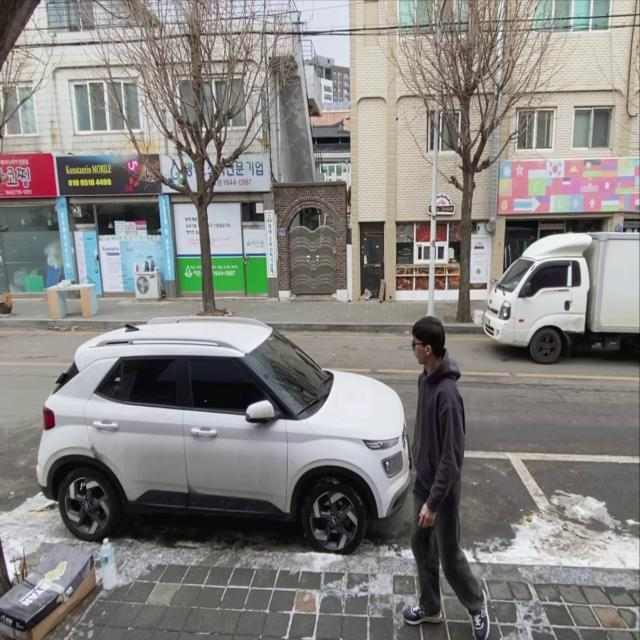bare_hand: (416, 500, 438, 532)
